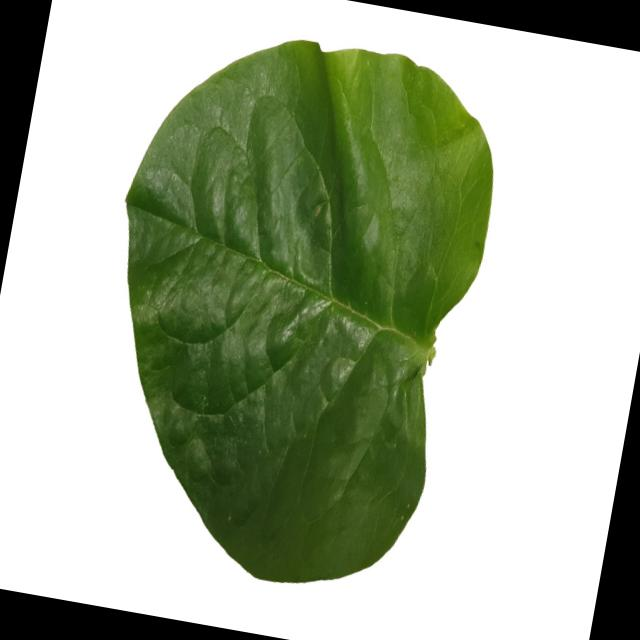Medicinal-Basale: (66, 9, 516, 610)
